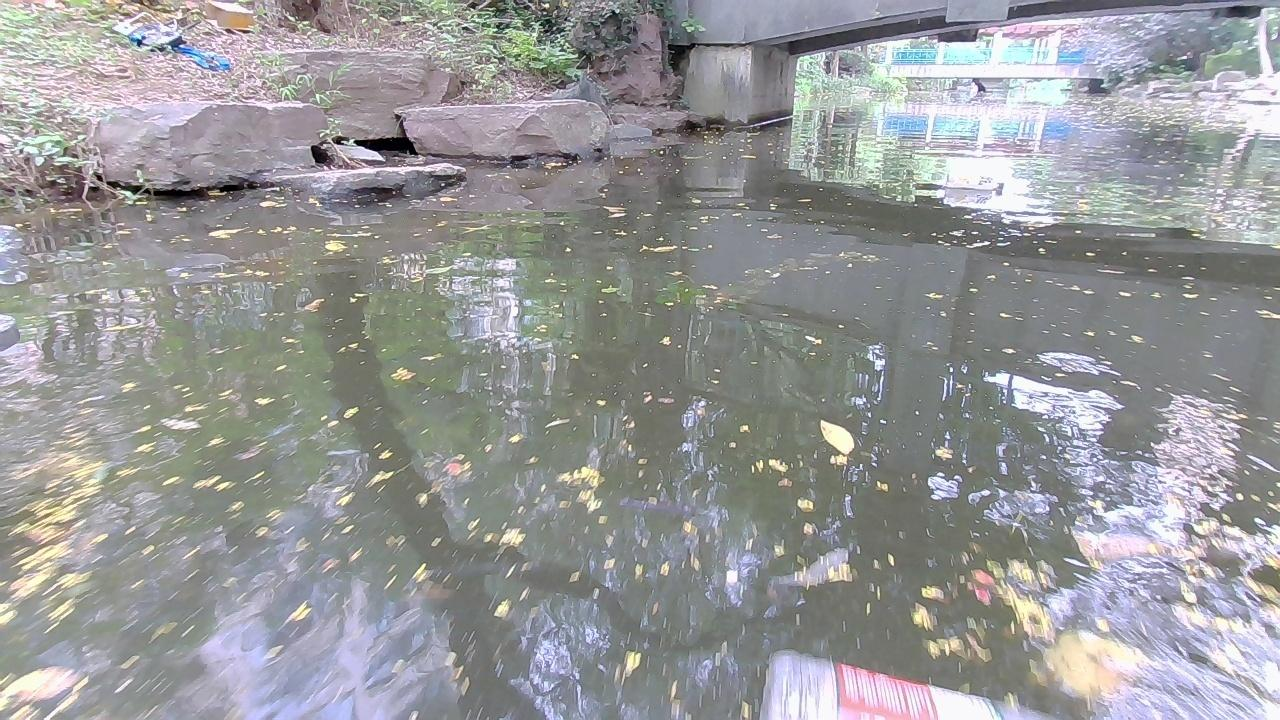bottle: (939, 168, 1008, 191)
